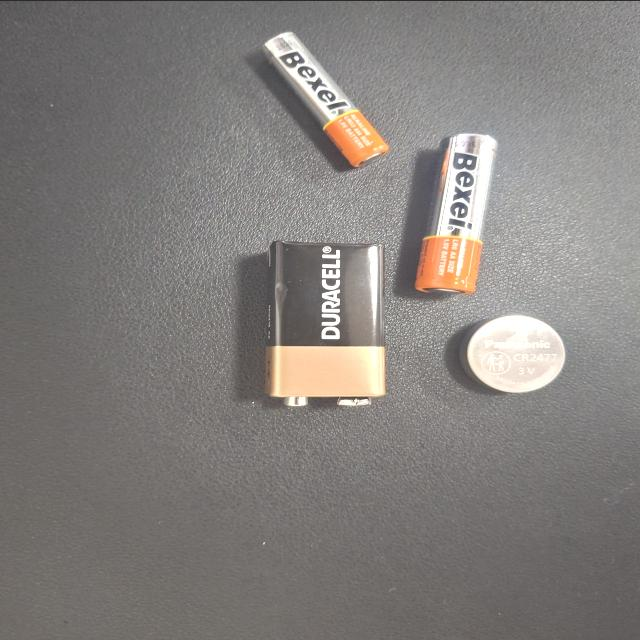9V: (320, 352, 531, 440)
AA: (177, 267, 390, 329)
AAA: (42, 348, 222, 442)
COIN: (418, 217, 522, 294)
